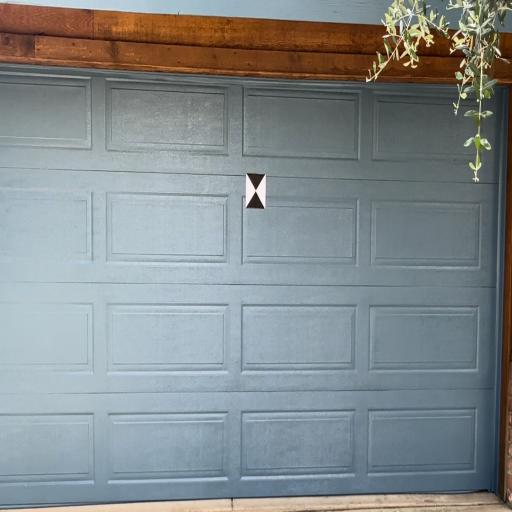target: (246, 174, 266, 208)
